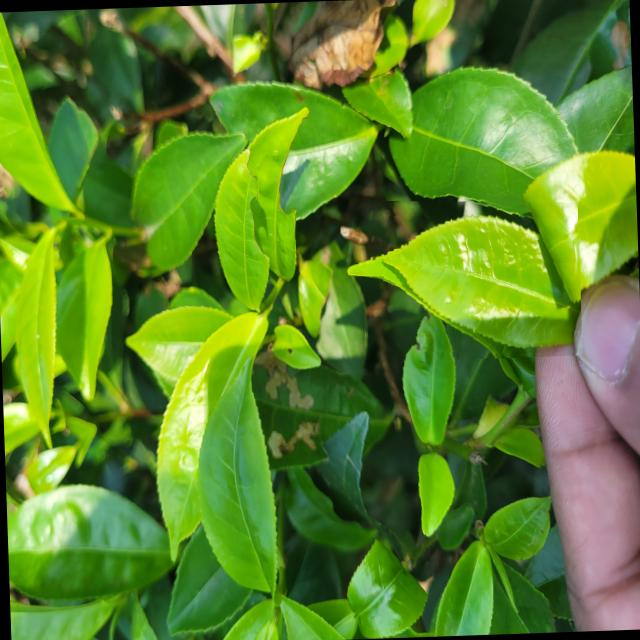Catagory A(1-2 days): (364, 192, 582, 361)
